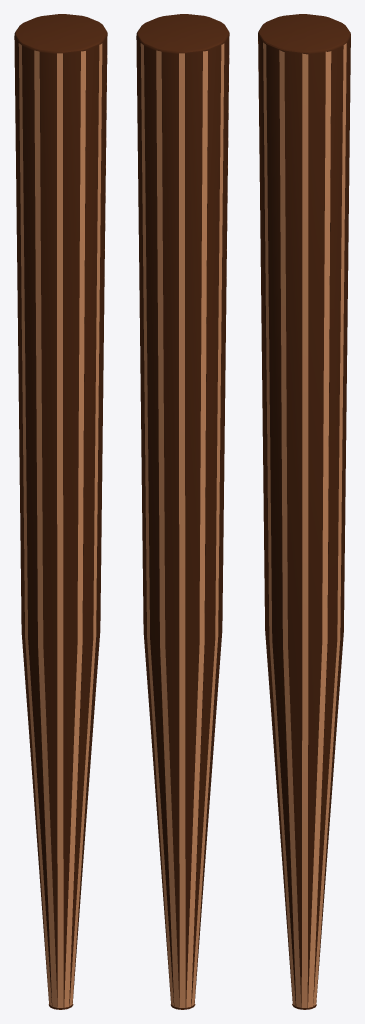
File: sandalye_ayag_tek_parca.fbx
The picture shows the model from 3 angles, left to right: view 1: azimuth 30°, elevation 25°; view 2: azimuth 210°, elevation 25°; view 3: azimuth 330°, elevation 25°; orthographic projection.
Visible parts, largest first — view 1: ayaklar.001; view 2: ayaklar.001; view 3: ayaklar.001.
Boxes of the visible parts, x1,y1,x2,y2 form: ayaklar.001: (14,14,107,1009); ayaklar.001: (136,14,229,1009); ayaklar.001: (258,14,350,1009).
Bounding box in the file's own units: 6.32 × 72.23 × 6.06.
